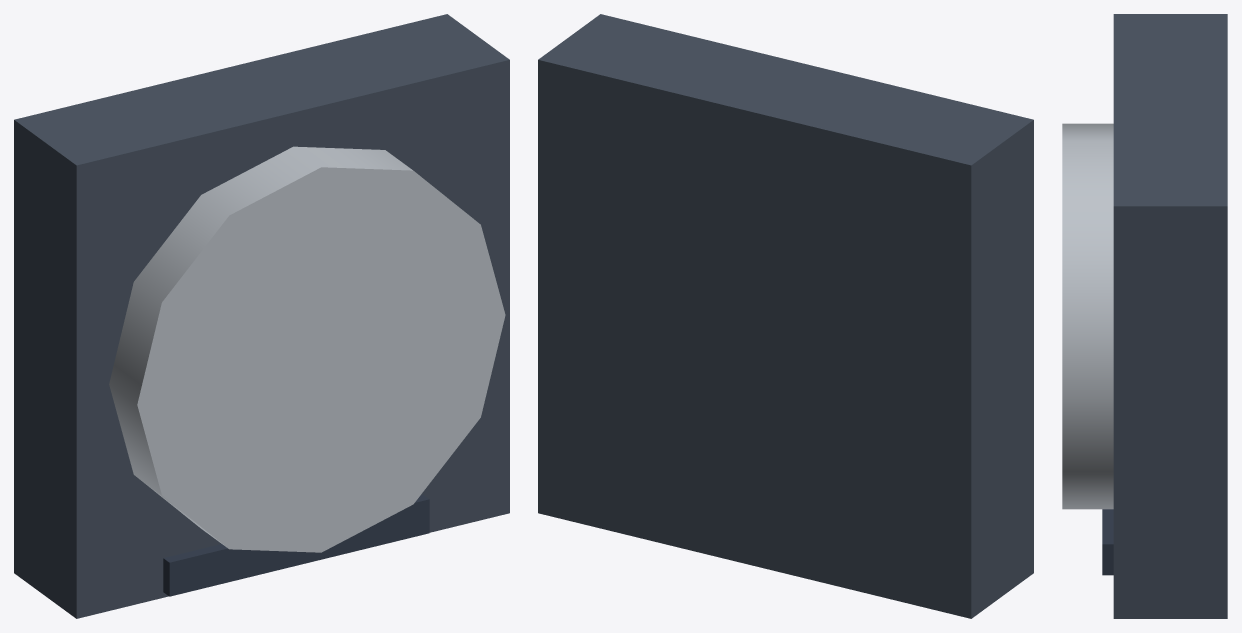
The model's file is pilot_light.glb.
3 views of the same model, side by side, from view 1: azimuth 30°, elevation 25°; view 2: azimuth 150°, elevation 25°; view 3: azimuth 270°, elevation 25° (orthographic). The views are drawn at different scales.
Parts seen in each view (by area): view 1: panel; view 2: panel; view 3: panel.
Part boxes in pixels (x1=…): panel: x1=14, y1=14, x2=509, y2=618; panel: x1=538, y1=14, x2=1033, y2=618; panel: x1=1062, y1=14, x2=1227, y2=618.
Size of the model in its own units: 0.08 by 0.08 by 0.029.
